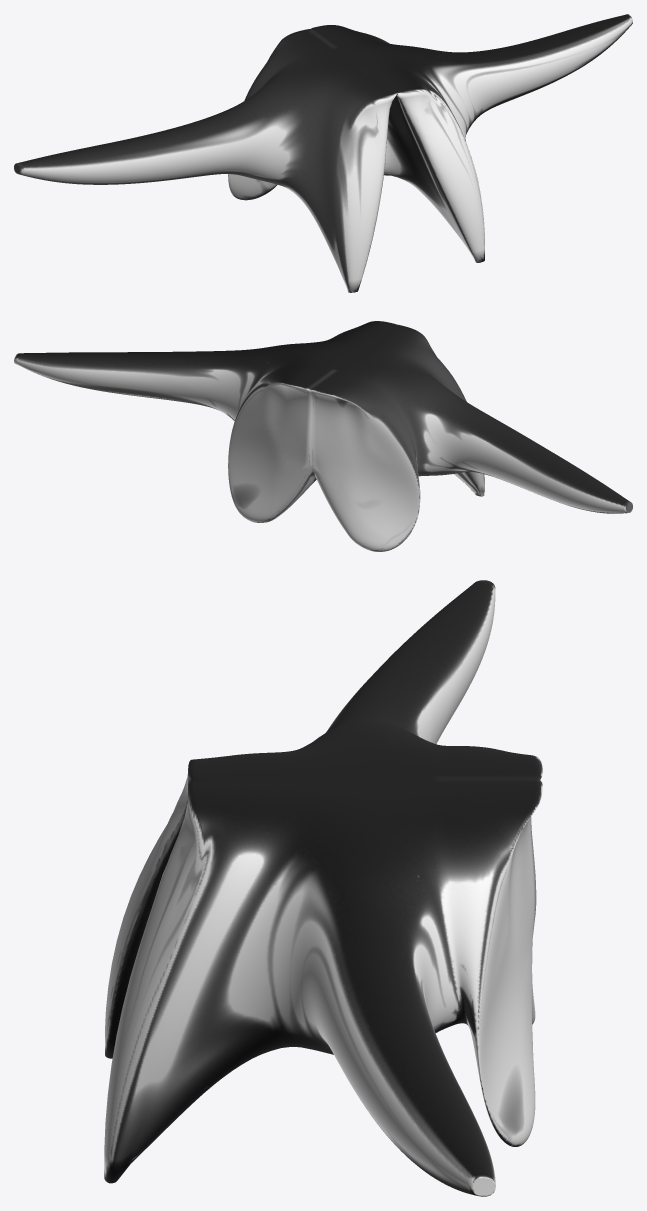
Rendered from spine.glb.
3 views of the same model, one above another, from view 1: azimuth 30°, elevation 25°; view 2: azimuth 150°, elevation 25°; view 3: azimuth 270°, elevation 25° (orthographic). The views are drawn at different scales.
Parts seen in each view (by area): view 1: Cube.004; view 2: Cube.004; view 3: Cube.004.
Boxes of the visible parts, x1=… form: Cube.004: x1=14, y1=14, x2=632, y2=292; Cube.004: x1=14, y1=321, x2=632, y2=551; Cube.004: x1=104, y1=580, x2=542, y2=1196.
Bounding box in the file's own units: 0.8074 × 0.2125 × 0.2497.
Materials: 1 (1 with a texture image).
